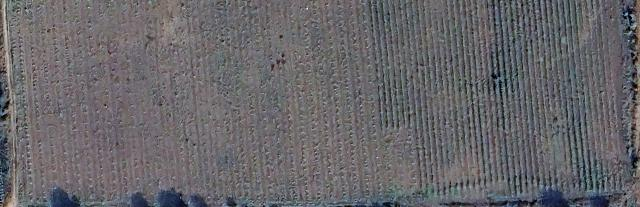Farms: (2, 0, 636, 207)
